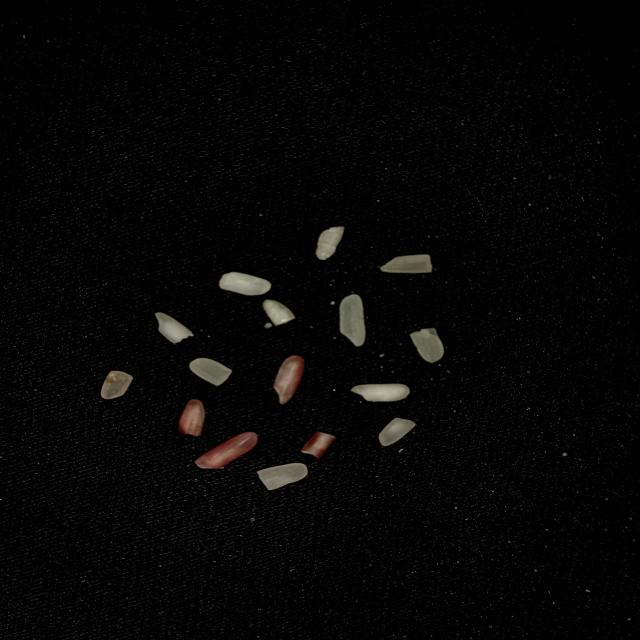Broken: (194, 431, 258, 469), (273, 355, 305, 405), (257, 463, 308, 490), (220, 272, 272, 296), (189, 358, 233, 386), (409, 328, 444, 362), (155, 312, 192, 344), (379, 418, 416, 446), (178, 399, 205, 437), (300, 431, 336, 458), (100, 370, 132, 400), (316, 226, 344, 260), (380, 255, 432, 272), (263, 300, 295, 326)
Full: (340, 294, 366, 347), (351, 383, 410, 402)
